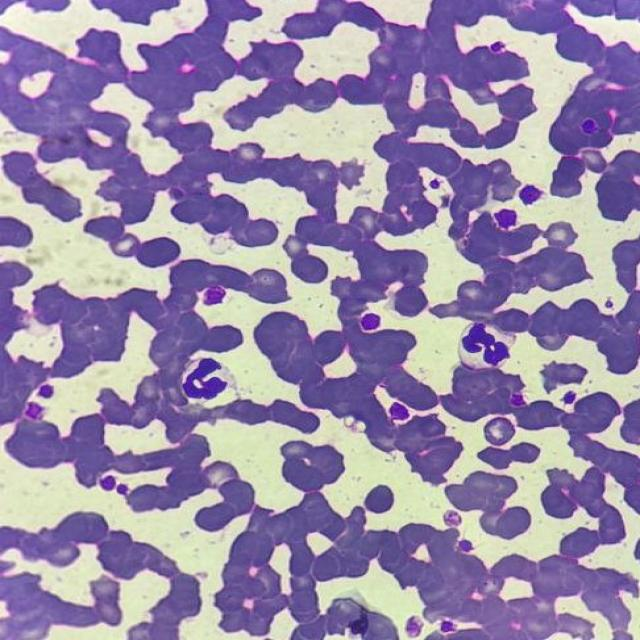Neutrofilo: (177, 354, 237, 411), (453, 322, 523, 369)
